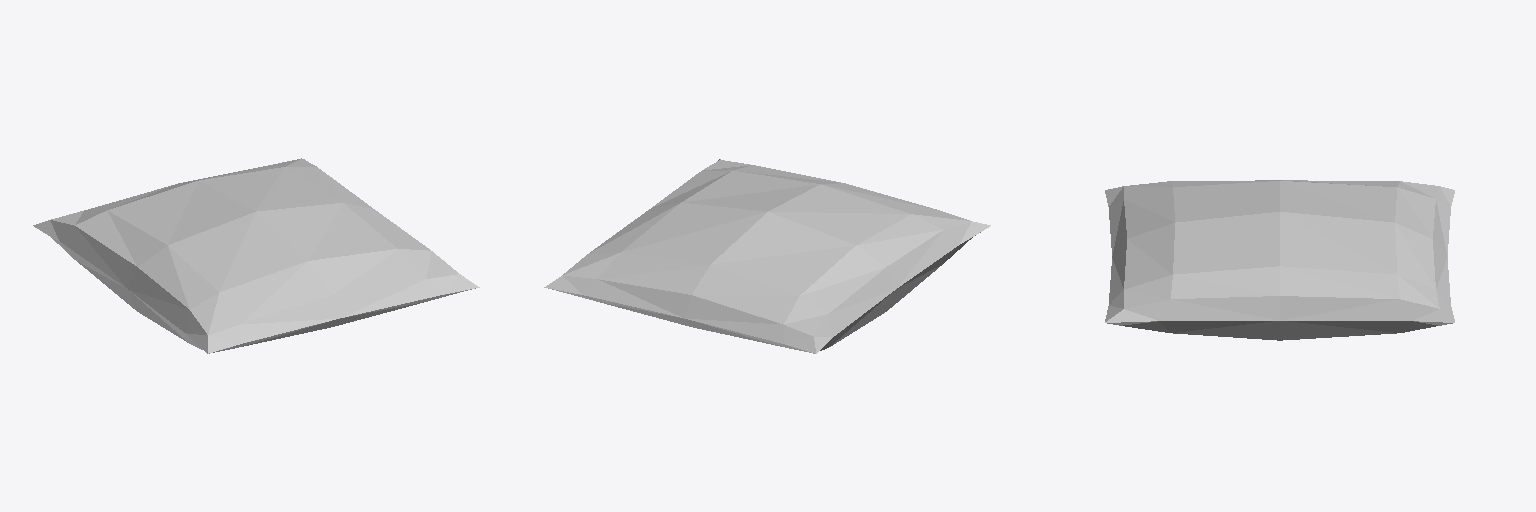
File: Pillow.obj
3 views of the same model, side by side, from view 1: azimuth 30°, elevation 25°; view 2: azimuth 150°, elevation 25°; view 3: azimuth 270°, elevation 25° (orthographic).
Parts seen in each view (by area): view 1: Pillow; view 2: Pillow; view 3: Pillow.
Part boxes in pixels (left/top/right/bottom): Pillow: left=33, top=158, right=479, bottom=353; Pillow: left=544, top=159, right=990, bottom=353; Pillow: left=1105, top=180, right=1454, bottom=340.
Bounding box in the file's own units: 27.79 × 8.65 × 31.